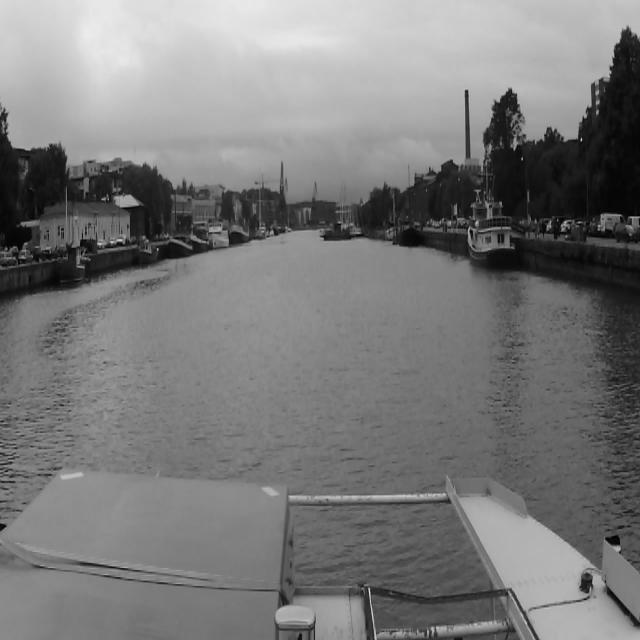ship: (468, 195, 518, 263), (54, 250, 86, 282), (319, 221, 357, 243), (398, 217, 422, 246), (209, 219, 229, 248), (230, 218, 250, 244), (136, 240, 159, 262), (190, 233, 210, 256), (165, 243, 192, 255)
